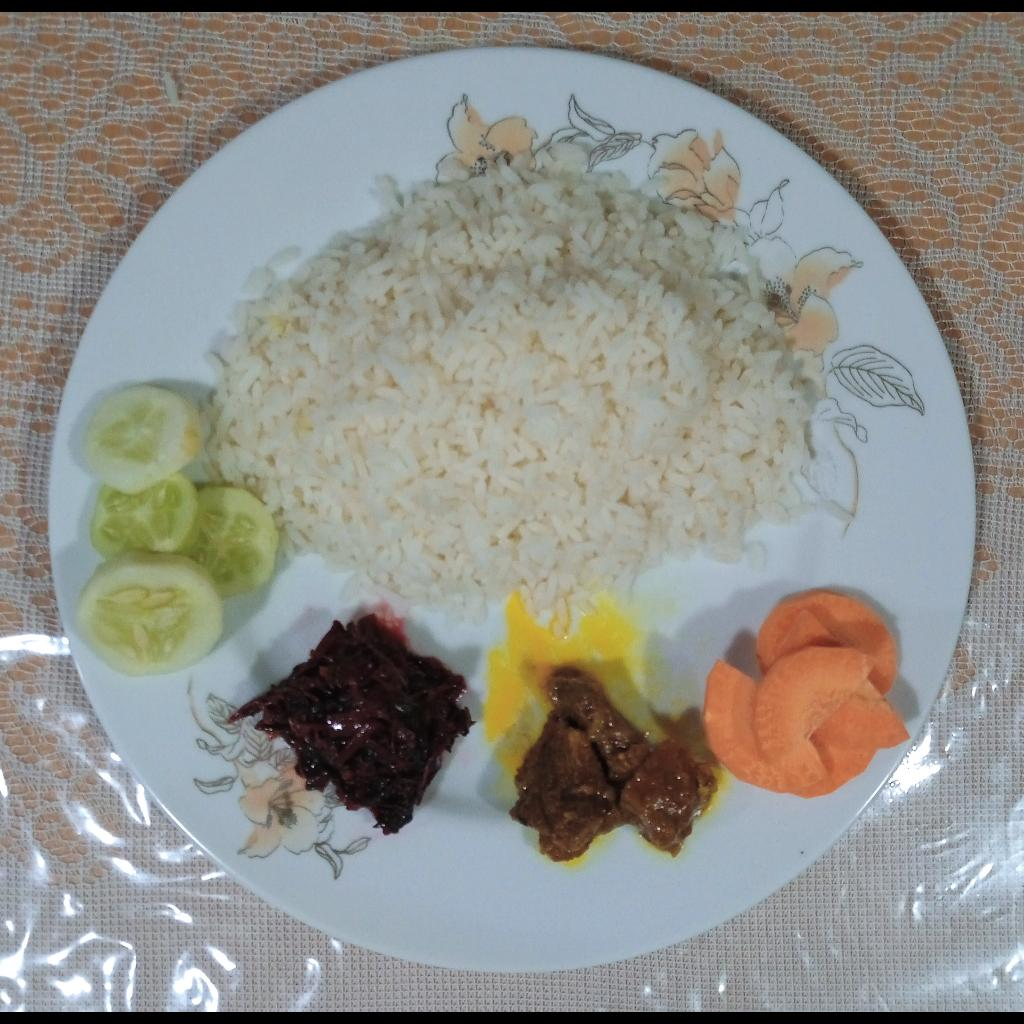beef: (508, 666, 719, 863)
carrot: (702, 588, 911, 800)
cucumber: (74, 384, 279, 677)
rice: (202, 143, 823, 642)
shak: (224, 613, 475, 837)
